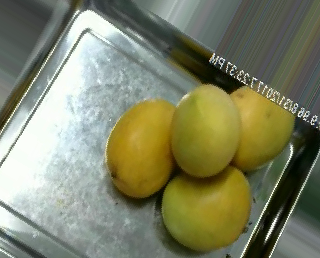Mango: (161, 163, 251, 251), (103, 97, 183, 195), (170, 84, 243, 179), (222, 80, 298, 171)
